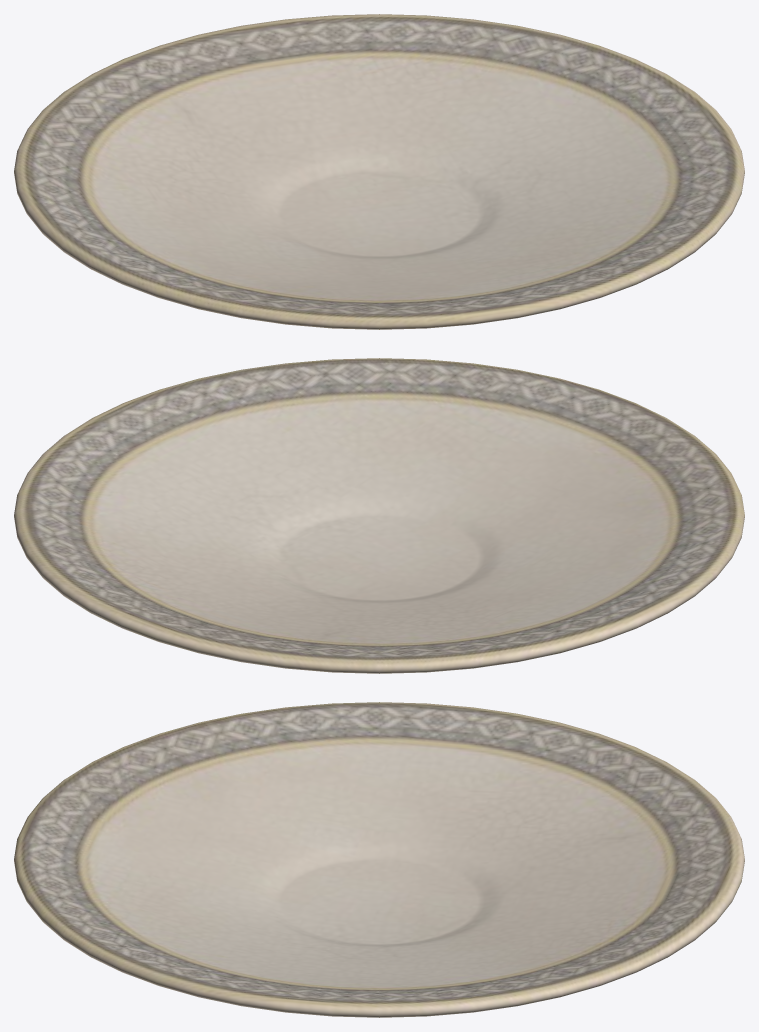
The model's file is ph-thrift-plate.glb.
3 views of the same model, one above another, from view 1: azimuth 30°, elevation 25°; view 2: azimuth 150°, elevation 25°; view 3: azimuth 270°, elevation 25° (orthographic).
Visible parts, largest first — view 1: tea_set_01_plate_large_circular_03; view 2: tea_set_01_plate_large_circular_03; view 3: tea_set_01_plate_large_circular_03.
Part boxes in pixels (box(x1,y1,x2,y2)): tea_set_01_plate_large_circular_03: box(14, 14, 744, 329); tea_set_01_plate_large_circular_03: box(14, 358, 744, 673); tea_set_01_plate_large_circular_03: box(14, 702, 744, 1017).
Bounding box in the file's own units: 0.2645 × 0.025 × 0.2645.
Materials: 1 (1 with a texture image).
